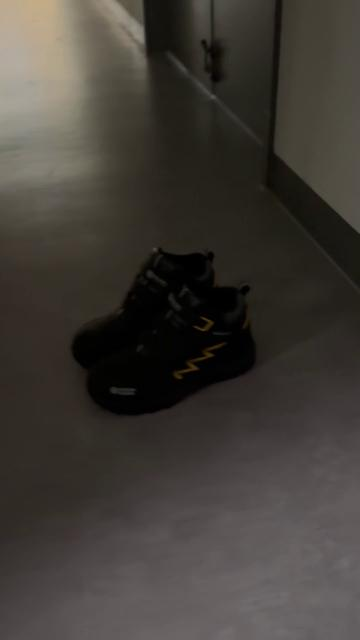shoe_worn: (82, 283, 258, 418), (69, 247, 214, 370)
